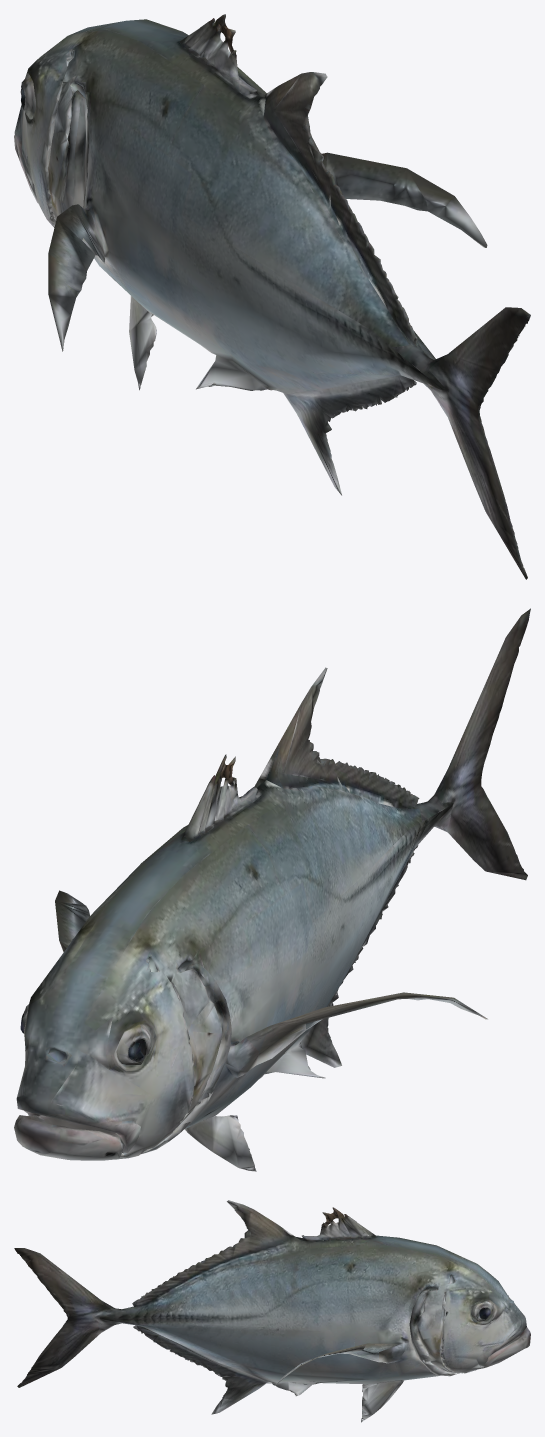
File: grootoog_trevally.glb
3 views of the same model, one above another, from view 1: azimuth 30°, elevation 25°; view 2: azimuth 150°, elevation 25°; view 3: azimuth 270°, elevation 25° (orthographic). The views are drawn at different scales.
Parts seen in each view (by area): view 1: tripo_node_9730e8a0-0ebf-4bd6-9163-6afb2b5b472b; view 2: tripo_node_9730e8a0-0ebf-4bd6-9163-6afb2b5b472b; view 3: tripo_node_9730e8a0-0ebf-4bd6-9163-6afb2b5b472b.
Part boxes in pixels (x1,y1,x2,y2): tripo_node_9730e8a0-0ebf-4bd6-9163-6afb2b5b472b: (14, 14, 530, 579); tripo_node_9730e8a0-0ebf-4bd6-9163-6afb2b5b472b: (14, 608, 530, 1171); tripo_node_9730e8a0-0ebf-4bd6-9163-6afb2b5b472b: (14, 1200, 530, 1422).
Bounding box in the file's own units: 0.5319 × 0.4979 × 1.09.
1 material, 1 textured.
